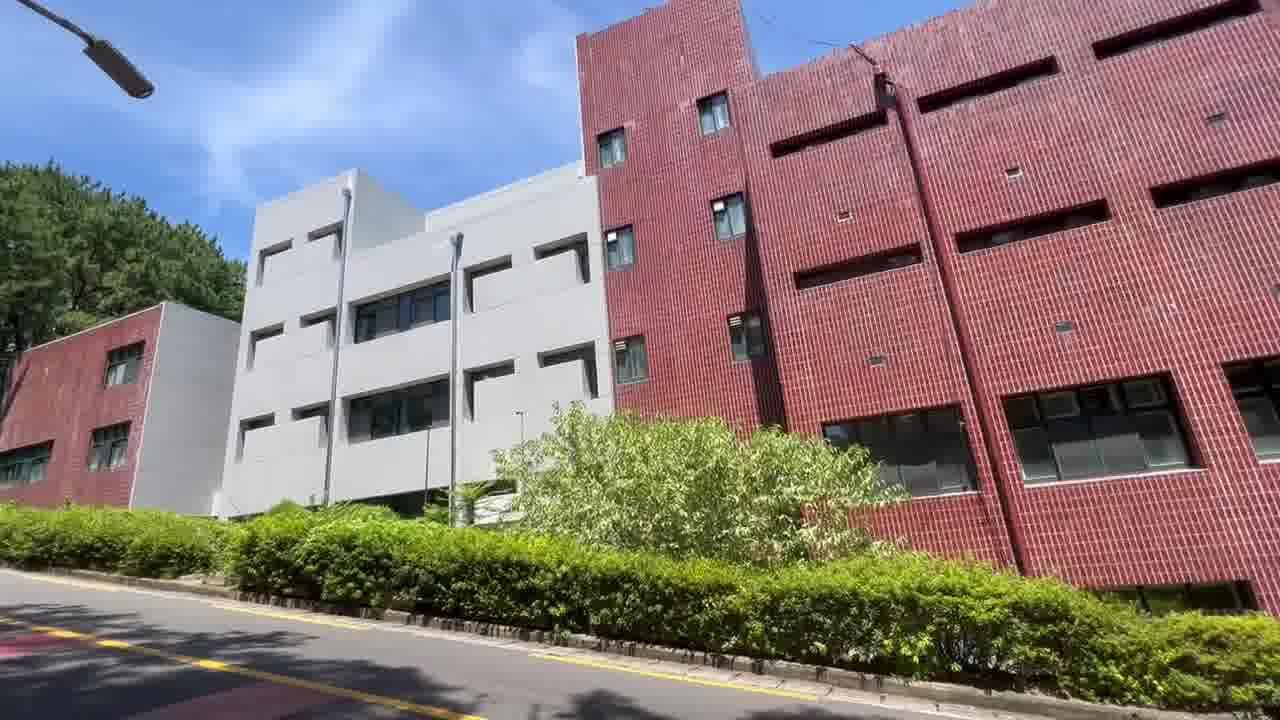building: (44, 33, 1280, 524)
